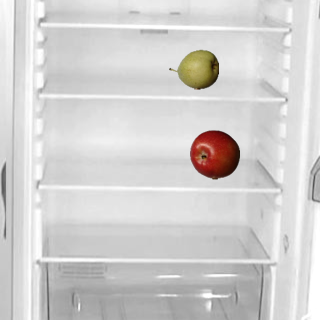Apple Braeburn: (189, 129, 239, 179)
Pear: (168, 44, 218, 94)
